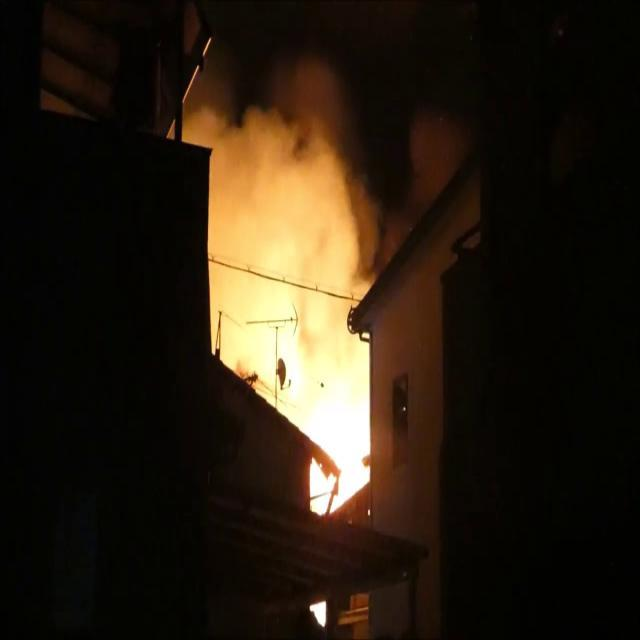Fire: (279, 300, 375, 518)
Smoke: (202, 42, 394, 344)
